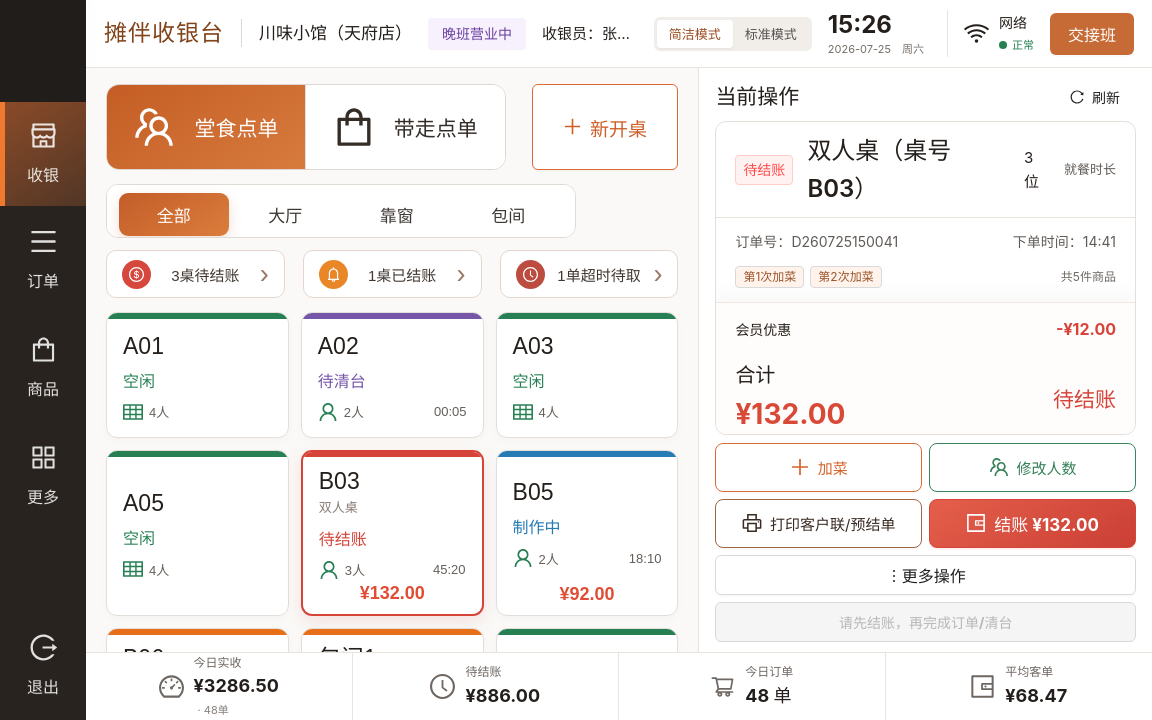
Scenario: cashier operations › requires a second confirmation for 确认现金已收妥并结账？
Click the button "结账 ¥132.00". click: (1033,524)
box: [929, 499, 1136, 548]
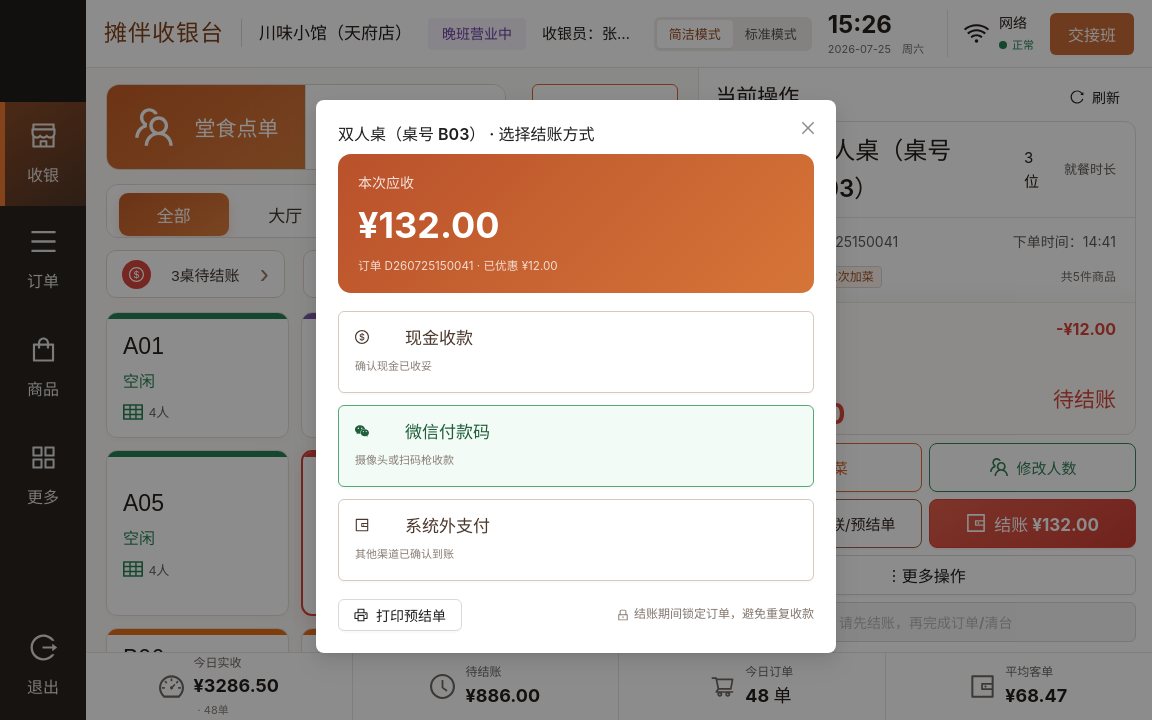
Click the button "现金收款 确认现金已收妥". click: (439,338)
box: [338, 311, 814, 393]
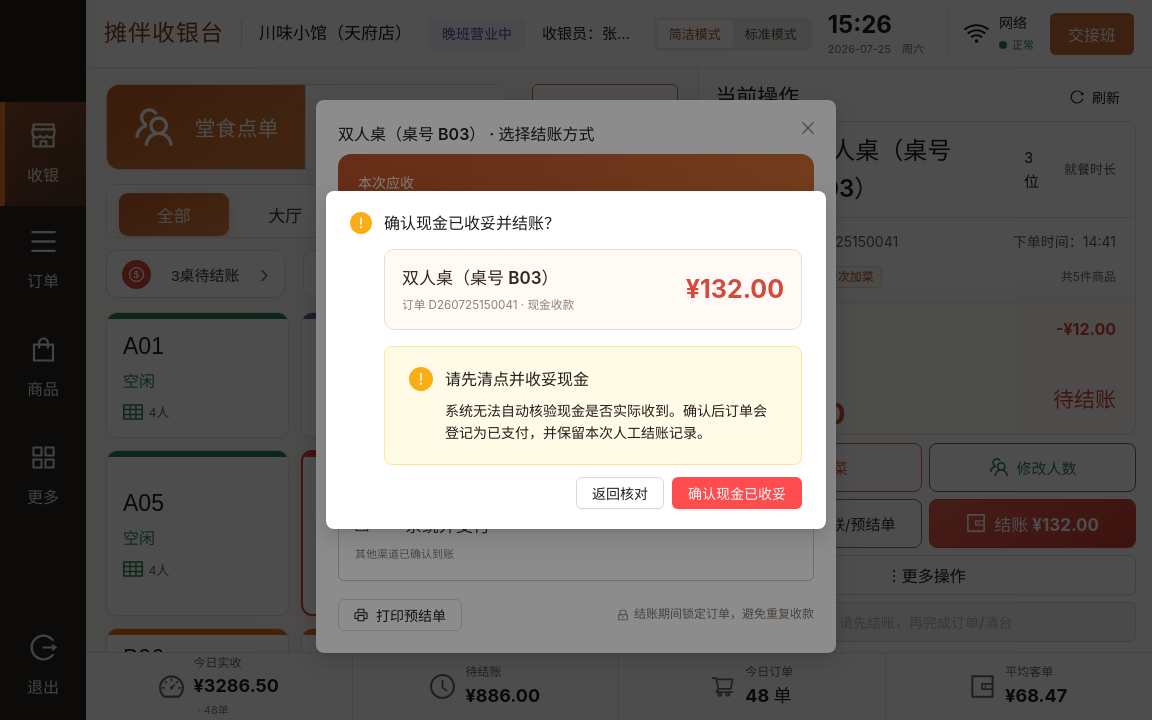
Result: the text "请先清点并收妥现金" is shown at [445, 369, 589, 389]
Result: the element with test id "offline-settlement-summary" shows "双人桌（桌号 B03）" at [402, 268, 558, 288]
Result: the element with test id "offline-settlement-summary" shows "¥132.00" at [686, 274, 784, 304]
